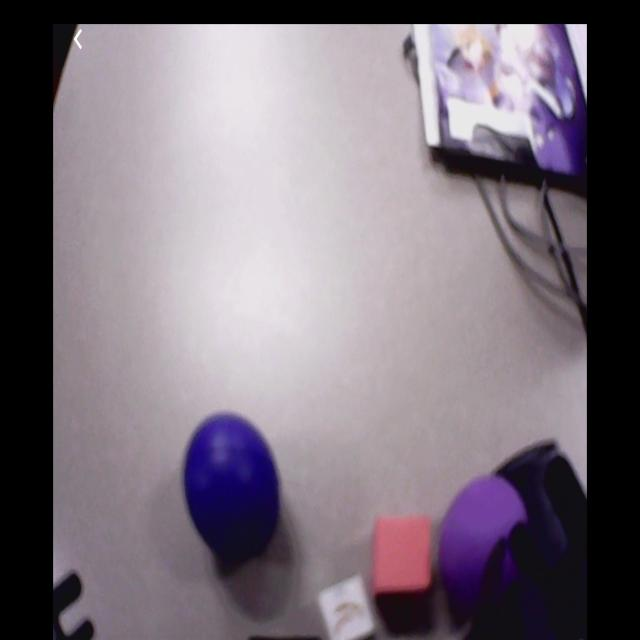ball: (184, 416, 278, 557), (439, 476, 531, 616)
